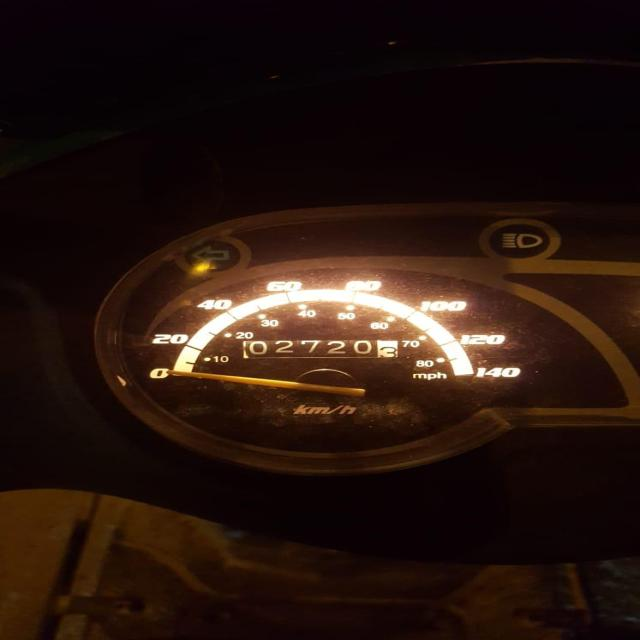odometer: (240, 338, 400, 360)
